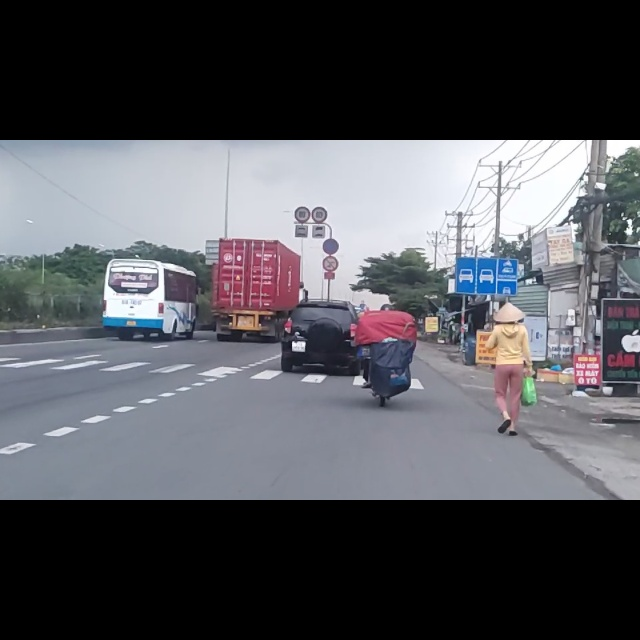bien_cam: (451, 220, 510, 290), (320, 185, 338, 215), (310, 129, 327, 160), (321, 217, 337, 245), (294, 130, 309, 159)
